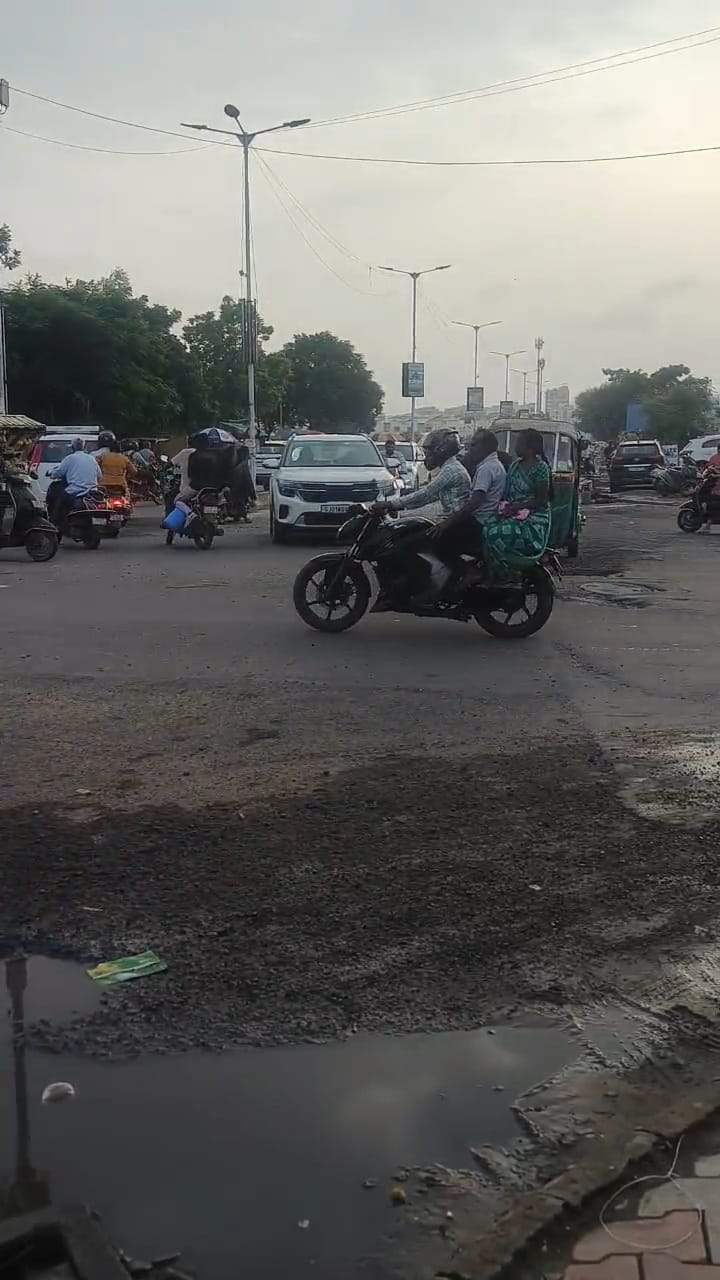BikeWithRider: (282, 415, 570, 645), (157, 424, 238, 551), (44, 432, 117, 554), (92, 432, 135, 538)
Helmet: (419, 423, 461, 472)
NoHelmet: (465, 422, 503, 465), (512, 425, 547, 461)
